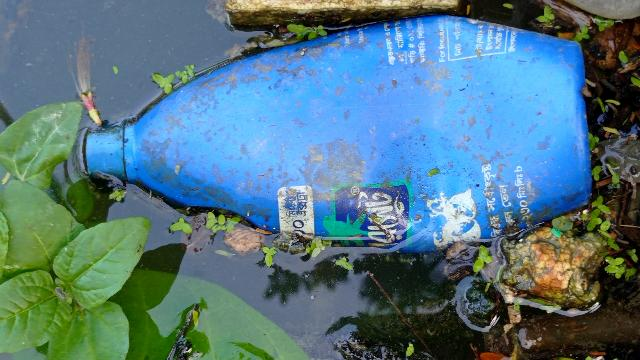bottle: (122, 6, 592, 255)
